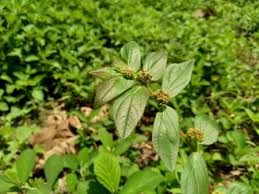snakeweed: (71, 40, 184, 129)
